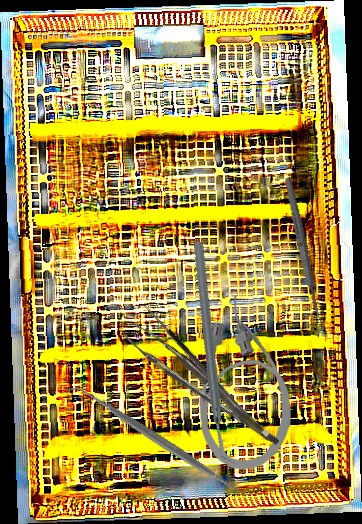Cannula: (196, 293, 296, 473)
Chopper: (135, 240, 294, 467)
Hook Surgical: (136, 301, 232, 403)
Spatula Surgical: (66, 374, 254, 508)
Surgical Spoon: (282, 175, 326, 334)
Tissue Forceps: (124, 315, 280, 463)
